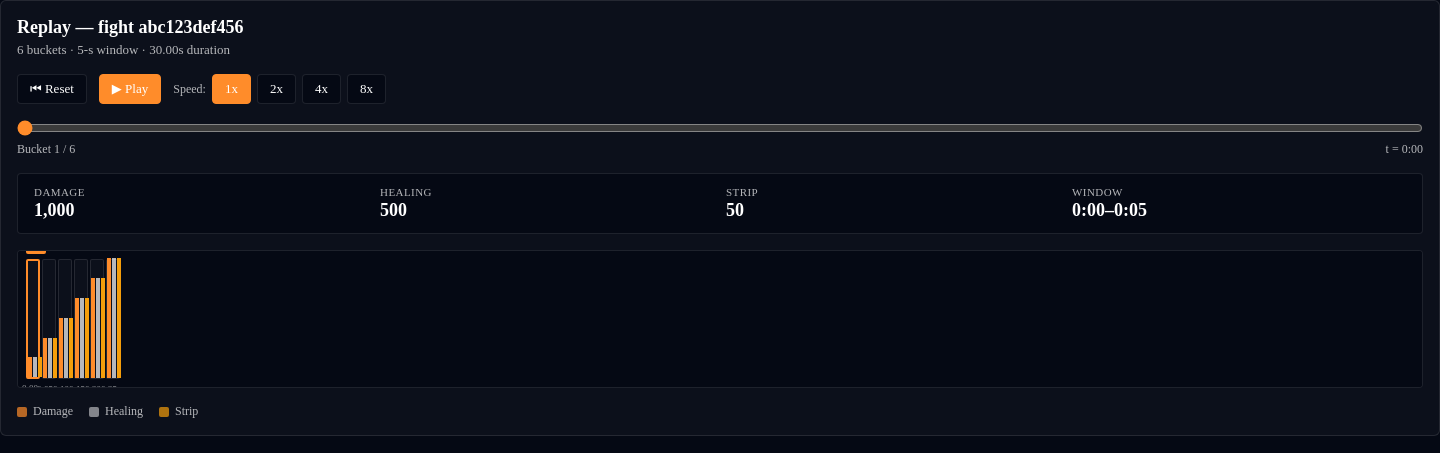
Scenario: ReplayPlayer › Reset click pauses + sets currentIndex=0
Click the button with test id "replay-play-pause" at (130, 89), box [99,74,161,104]
Wait 10000 ms
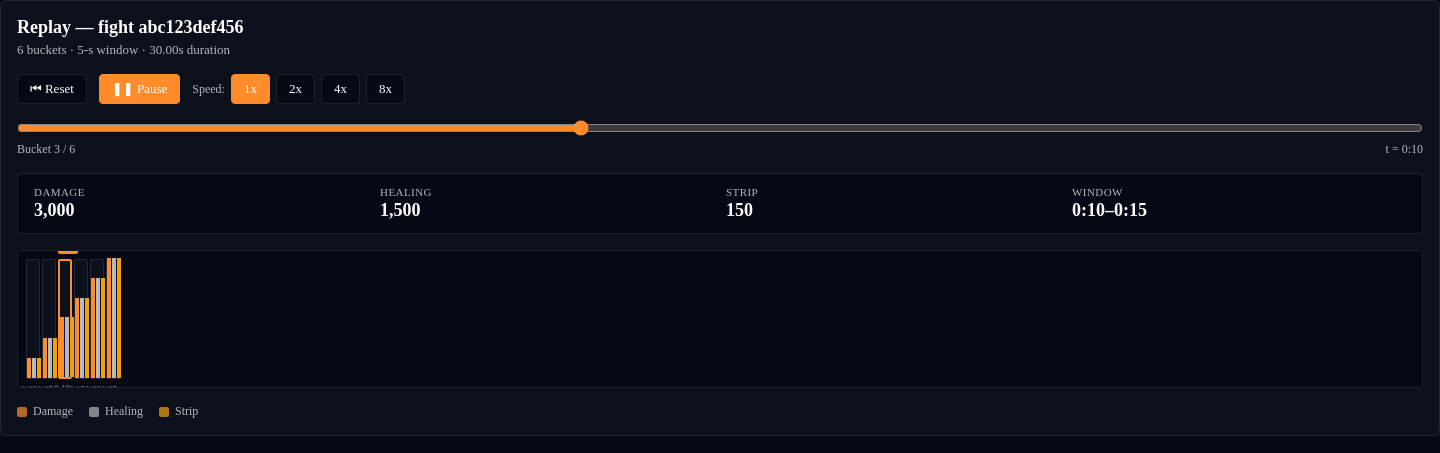
Expected: the text "Bucket 3 / 6" is shown, [17,142,75,157]
Click the button with aria-label "Reset replay" at (52, 89), box [17,74,87,104]
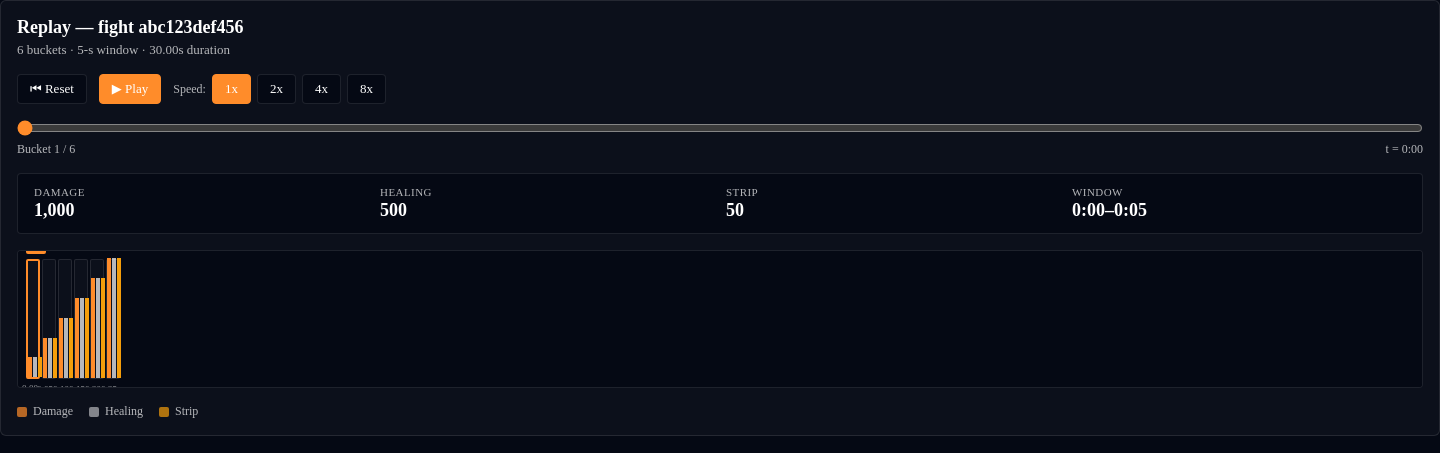
Expected: the text "Bucket 1 / 6" is shown, [17,142,75,157]
Expected: the slider with test id "replay-scrubber" holds "0", [17,120,1423,136]
